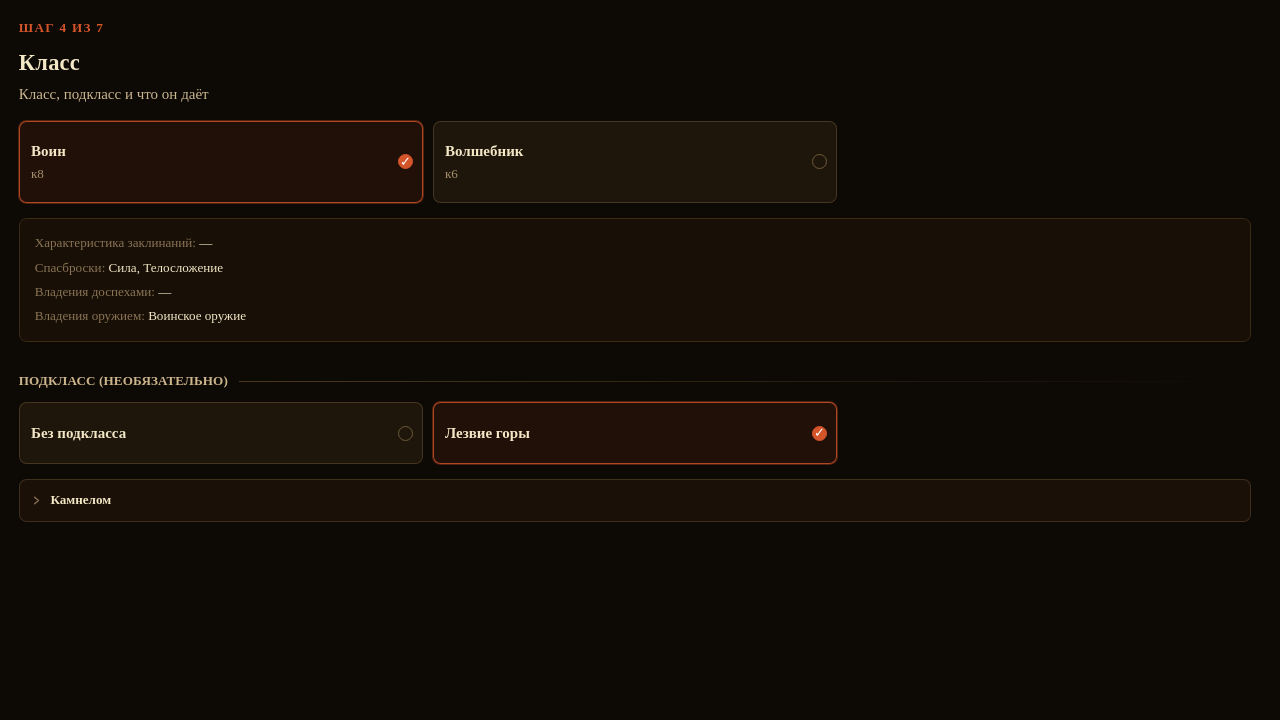
Test: StepClass › does not show the subclass description but expands its features
Step 1. Click the button "Камнелом" → x=81, y=500, box [30,491,1240,510]
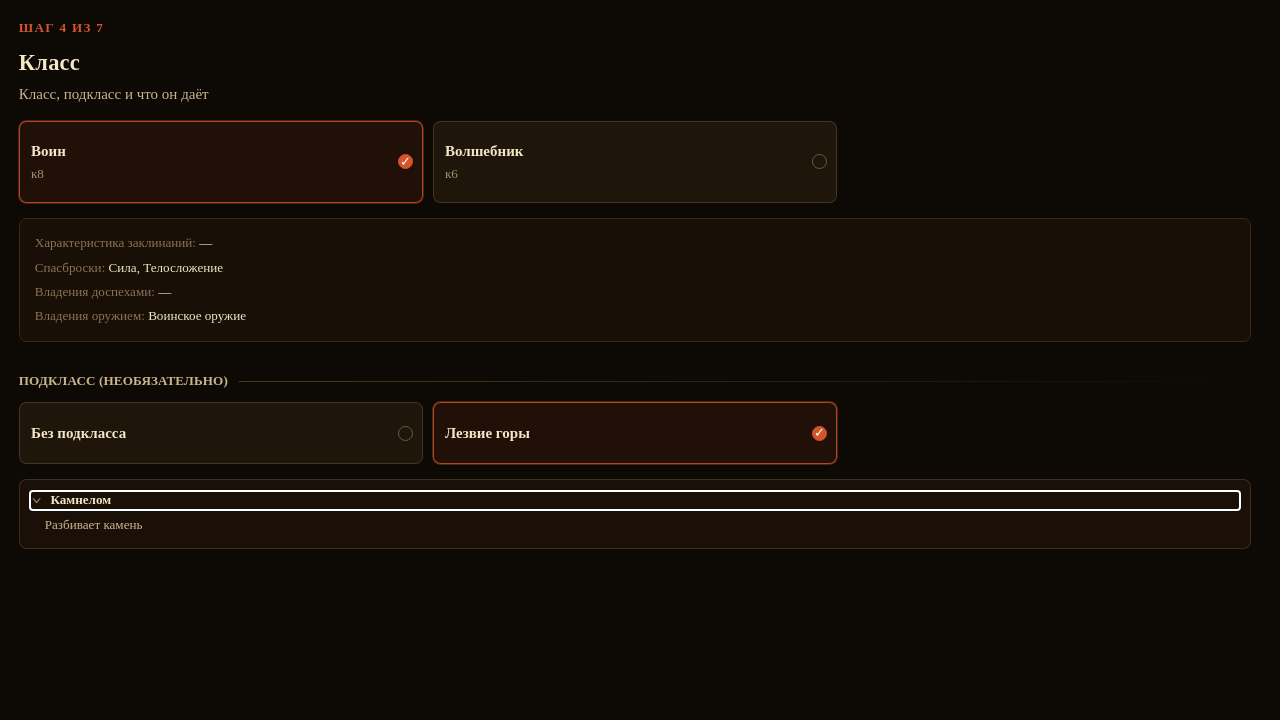
Expected: the text "Разбивает камень" is shown, [45,517,142,532]
